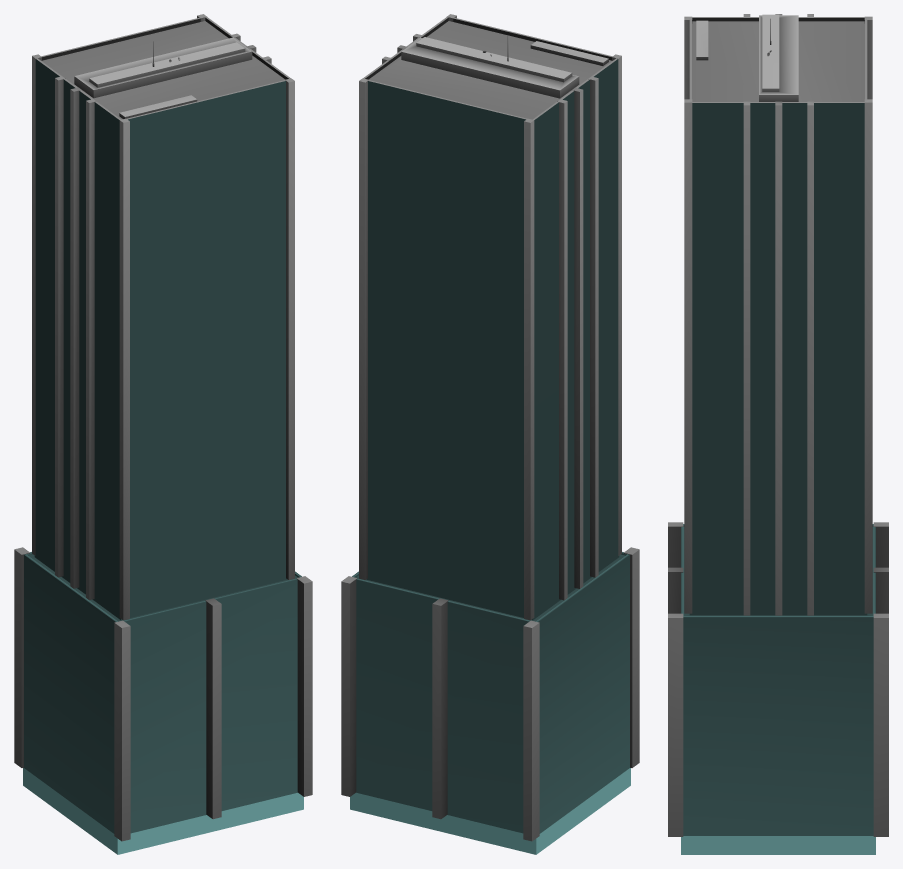
Rendered from Industrial_ModernSkyscraper_alt05.glb.
3 views of the same model, side by side, from view 1: azimuth 30°, elevation 25°; view 2: azimuth 150°, elevation 25°; view 3: azimuth 270°, elevation 25° (orthographic). The views are drawn at different scales.
Parts seen in each view (by area): view 1: windowRefl.026, base.043; view 2: windowRefl.026, base.043; view 3: windowRefl.026, base.043.
Part boxes in pixels (left/top/right/bottom): windowRefl.026: left=23, top=59, right=303, bottom=854; base.043: left=14, top=14, right=312, bottom=841; windowRefl.026: left=350, top=59, right=630, bottom=854; base.043: left=341, top=14, right=639, bottom=841; windowRefl.026: left=681, top=103, right=875, bottom=854; base.043: left=668, top=14, right=888, bottom=836.
Bounding box in the file's own units: 21.51 × 82.06 × 20.99.
